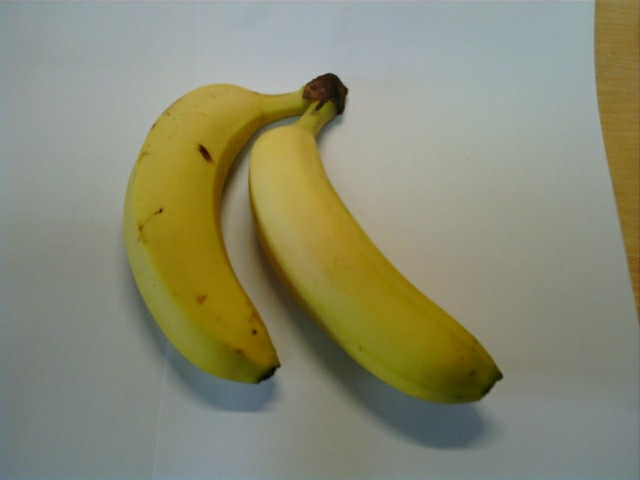fresh_banana: (252, 121, 502, 403)
normal_banana: (125, 76, 282, 386)
